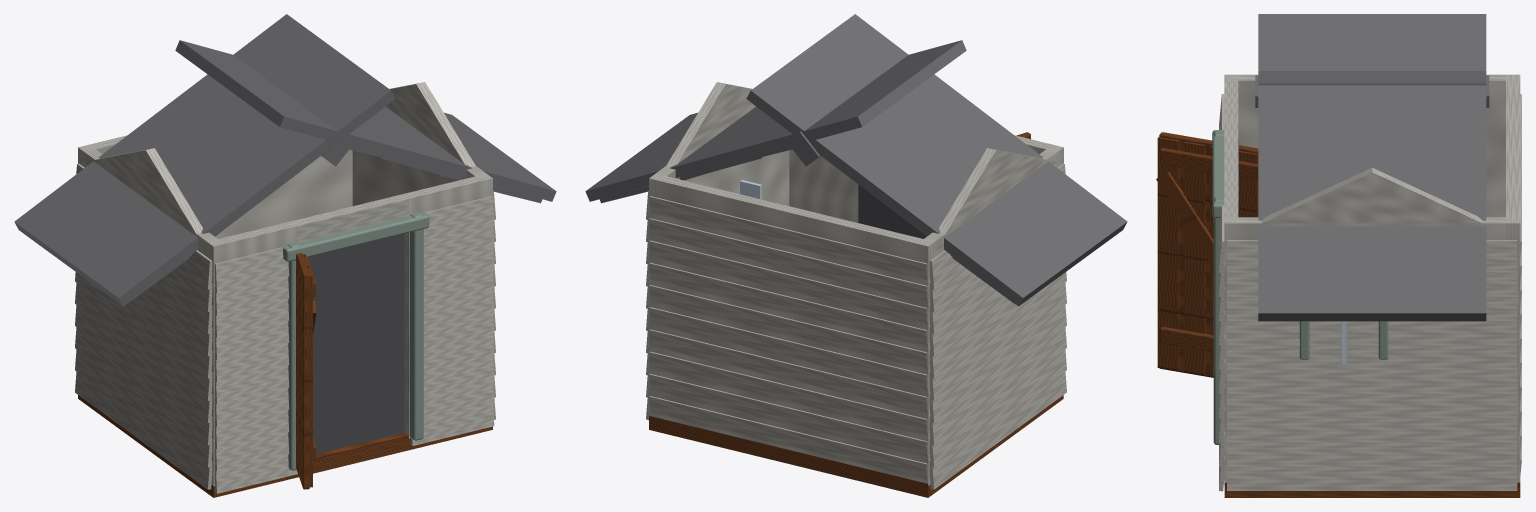
The model's file is halloween-slasher-street-garden-shed-door-open-22a801b4__27288.glb.
3 views of the same model, side by side, from view 1: azimuth 30°, elevation 25°; view 2: azimuth 150°, elevation 25°; view 3: azimuth 270°, elevation 25° (orthographic). The views are drawn at different scales.
Visible parts, largest first — view 1: garden-shed-door-open, door-shed; view 2: garden-shed-door-open; view 3: garden-shed-door-open, door-shed.
Boxes of the visible parts, x1=… form: garden-shed-door-open: x1=14, y1=14, x2=556, y2=497; door-shed: x1=296, y1=252, x2=316, y2=489; garden-shed-door-open: x1=585, y1=14, x2=1127, y2=497; garden-shed-door-open: x1=1212, y1=14, x2=1521, y2=497; door-shed: x1=1156, y1=132, x2=1258, y2=377.
Size of the model in its own units: 3.92 by 2.98 by 2.6.
Materials: 7 (2 with a texture image).
